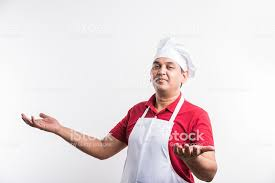Indian_Male: (144, 45, 189, 98)
